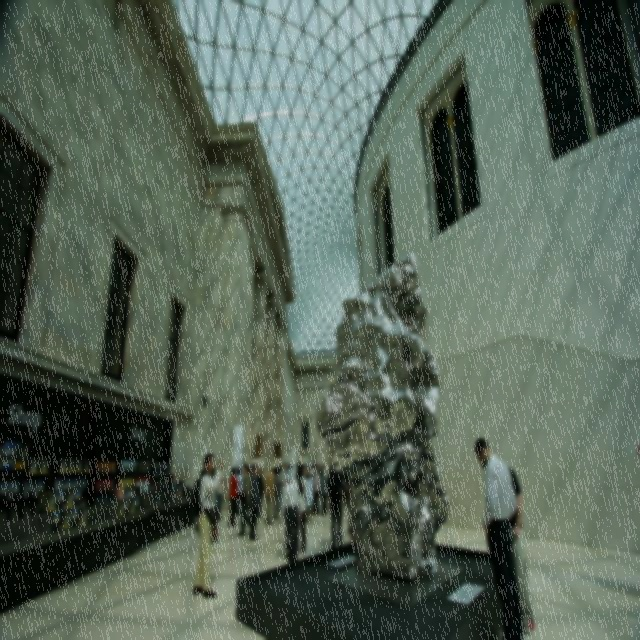pessoa: (472, 437, 526, 639), (476, 443, 524, 639), (189, 447, 227, 600), (281, 466, 303, 564), (324, 460, 346, 553), (294, 465, 308, 556), (236, 462, 252, 538), (248, 462, 260, 542), (262, 460, 276, 526), (228, 466, 239, 528), (302, 466, 313, 524), (217, 459, 226, 522), (318, 466, 329, 516), (278, 460, 290, 504), (312, 466, 321, 516), (272, 464, 280, 520), (258, 464, 266, 518), (236, 466, 244, 516), (210, 518, 219, 546), (167, 472, 178, 494), (284, 524, 292, 550), (634, 438, 640, 466), (278, 488, 283, 514), (247, 462, 255, 476), (328, 458, 333, 480), (302, 462, 308, 477), (308, 462, 314, 476), (211, 464, 216, 478), (314, 462, 325, 468), (254, 516, 260, 526), (278, 460, 283, 472), (283, 480, 288, 490), (288, 462, 293, 470), (318, 468, 322, 478), (272, 466, 276, 474), (285, 466, 289, 474), (280, 512, 284, 518), (257, 469, 260, 476)
